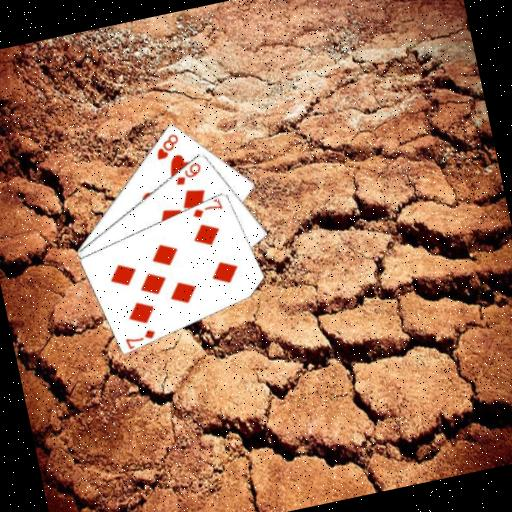7D: (187, 196, 226, 221), (120, 325, 159, 350)
8H: (149, 129, 183, 161)
9D: (169, 158, 205, 188)
